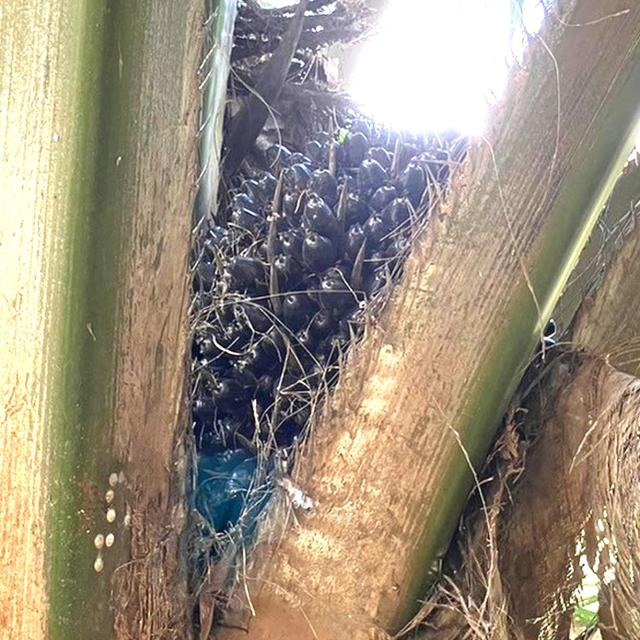unripe: (170, 112, 473, 574)
